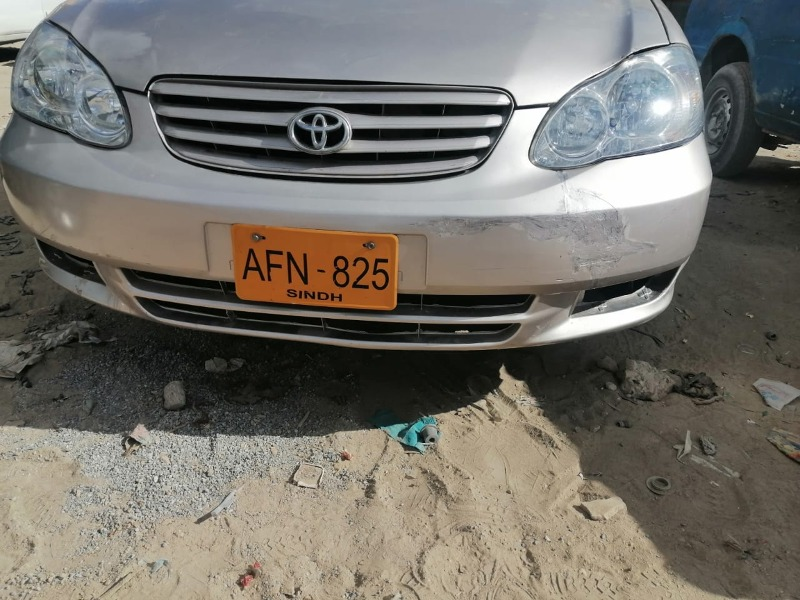License Plate: (226, 220, 401, 313)
